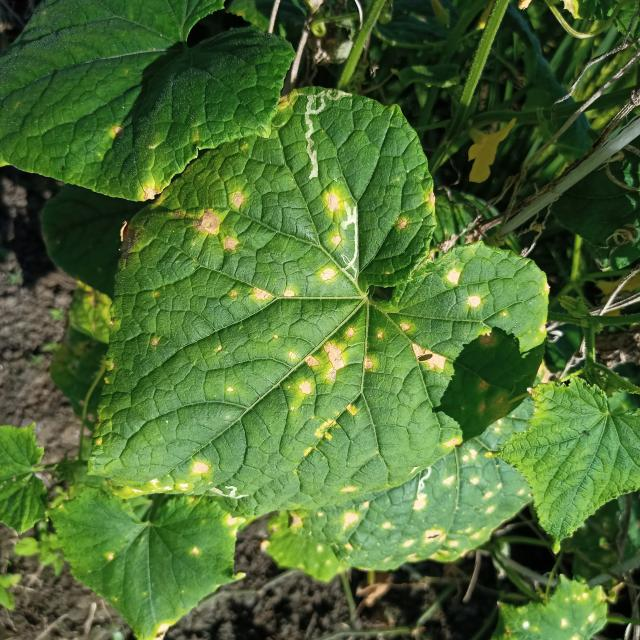disease_cucumber: (132, 176, 488, 499), (333, 429, 530, 567)
